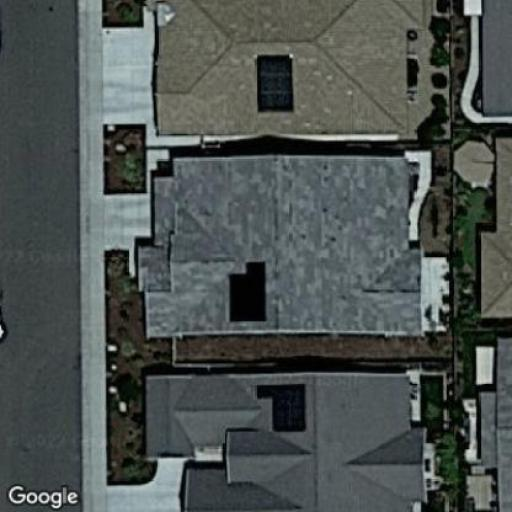solar-panel: (253, 380, 311, 436), (224, 259, 272, 326), (253, 49, 298, 115)
